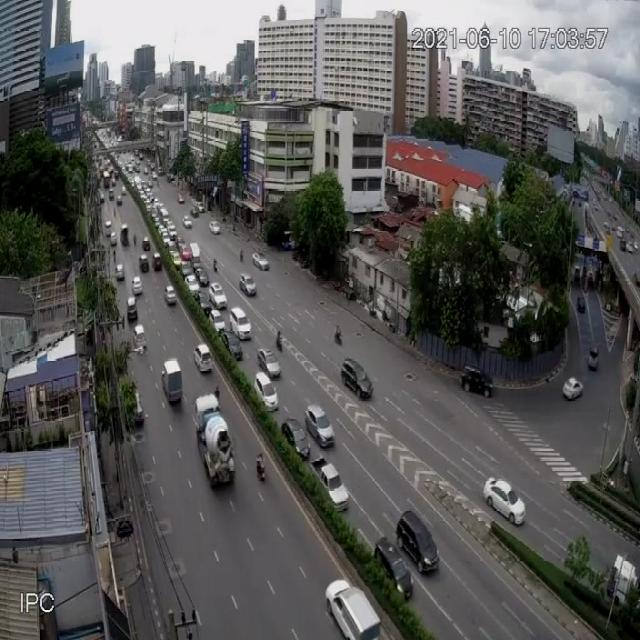Car: (327, 578, 381, 640), (396, 509, 440, 574), (372, 536, 413, 600), (311, 456, 349, 511), (483, 476, 525, 525), (305, 400, 335, 450), (341, 357, 373, 400), (281, 417, 311, 459), (459, 363, 493, 396), (254, 371, 279, 412), (218, 328, 244, 359), (257, 346, 281, 379), (229, 307, 251, 341), (193, 342, 213, 372), (209, 282, 227, 310), (563, 376, 583, 401), (132, 388, 145, 426), (208, 308, 226, 335), (196, 288, 213, 314), (239, 272, 257, 296), (132, 323, 146, 351), (116, 518, 134, 539), (252, 252, 270, 272), (185, 276, 200, 298), (194, 265, 209, 287), (587, 347, 599, 370), (164, 284, 177, 305), (127, 296, 138, 320), (190, 242, 200, 265), (132, 276, 142, 296), (181, 260, 192, 278), (171, 251, 182, 269), (120, 223, 129, 245), (180, 246, 192, 262), (576, 294, 586, 313), (139, 254, 149, 272), (208, 220, 220, 235), (152, 252, 162, 270), (162, 231, 172, 249), (281, 238, 296, 250), (168, 223, 177, 243), (115, 263, 125, 280), (573, 264, 581, 282), (142, 235, 150, 251), (104, 219, 112, 235), (182, 216, 192, 228), (190, 205, 199, 217), (110, 231, 117, 246), (587, 269, 594, 284), (189, 197, 198, 208), (616, 226, 624, 238), (197, 202, 205, 213), (635, 270, 640, 286), (178, 193, 185, 204), (99, 192, 105, 204), (108, 188, 114, 200), (604, 222, 610, 233), (167, 174, 174, 183), (120, 186, 126, 196), (117, 194, 122, 205), (152, 172, 157, 180), (144, 167, 148, 175)
Cycle: (256, 450, 266, 483), (335, 322, 342, 348), (277, 327, 283, 354), (213, 253, 218, 274), (239, 248, 245, 263), (133, 233, 137, 246)
Truck: (196, 394, 236, 486), (161, 358, 183, 403)
